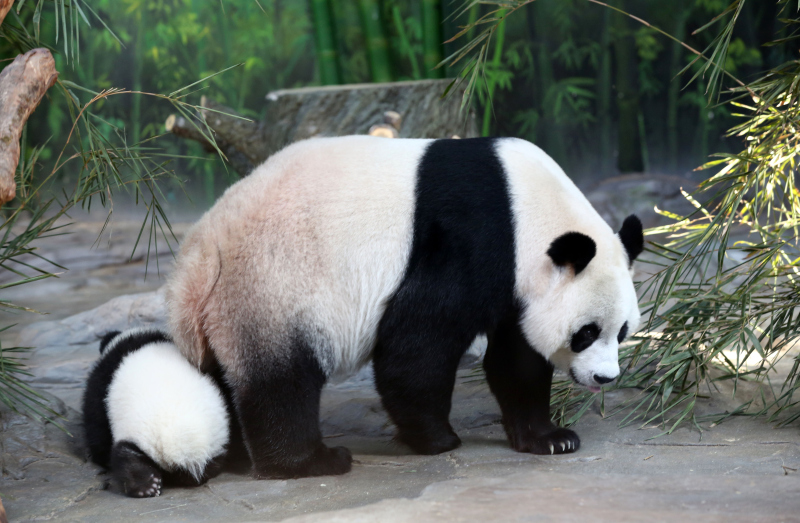panda: (165, 132, 648, 480), (84, 327, 239, 499)
